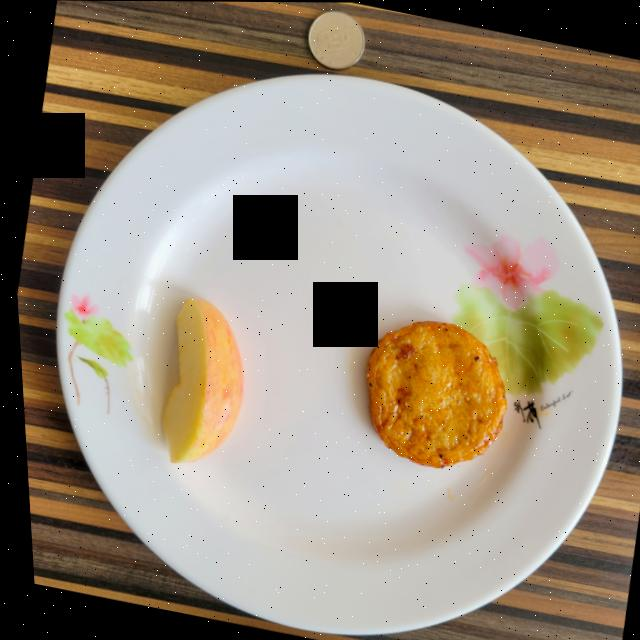apple -sliced-: (156, 298, 238, 463)
coin: (307, 10, 364, 69)
fish cake: (362, 320, 501, 468)
